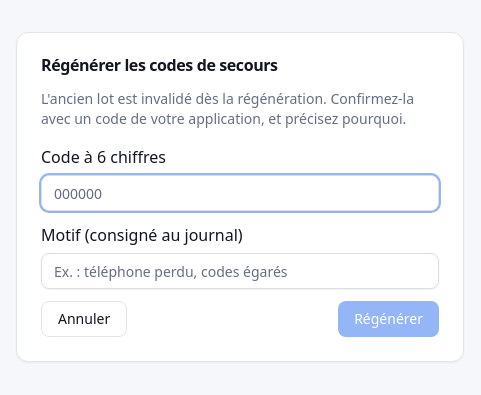
Scenario: regeneration des codes de secours › un refus serveur s'affiche, sans que rien de nouveau paraisse a l'ecran
Type "123456" into the field labelled "Code à 6 chiffres" at (240, 193), box [41,175,439,211]
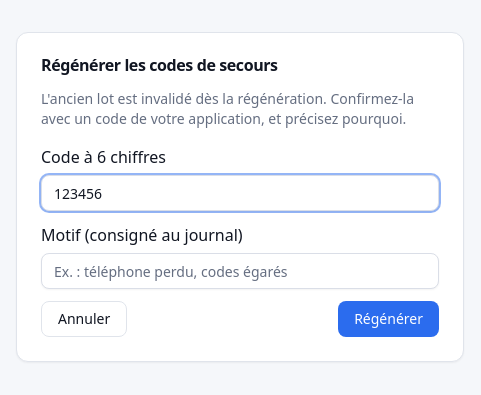
Type "Téléphone perdu" into the field labelled "Motif (consigné au journal)" at (240, 271), box [41,253,439,289]
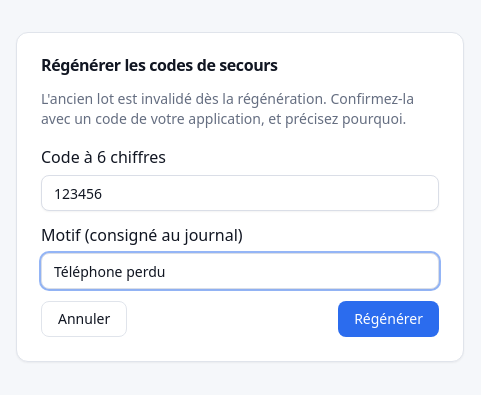
Click the button "Régénérer" at (389, 319), box [338,301,439,337]
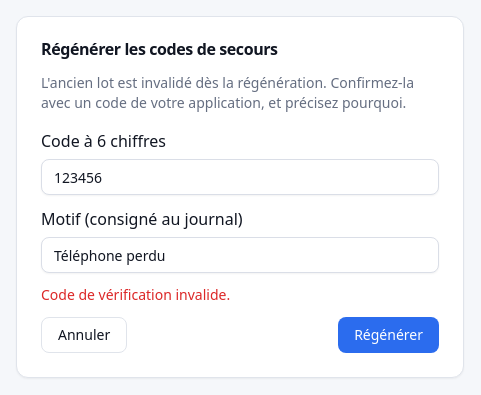
Now the message shows "invalide", box [41,285,230,304]
